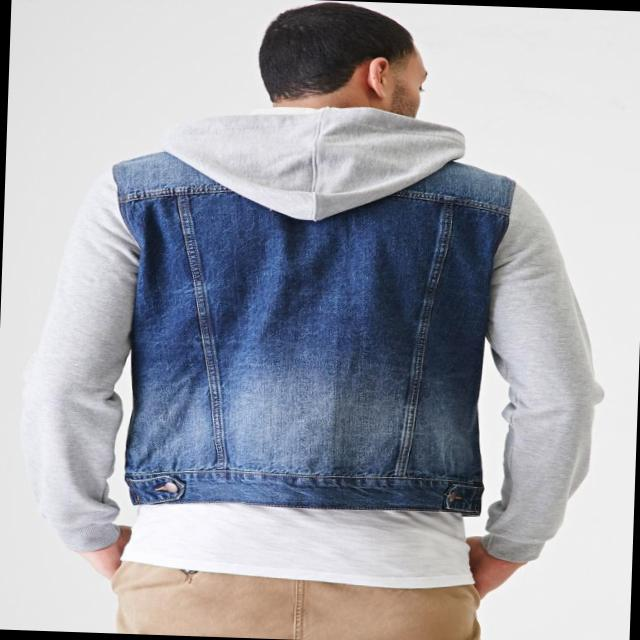Jacket: (10, 102, 605, 572)
